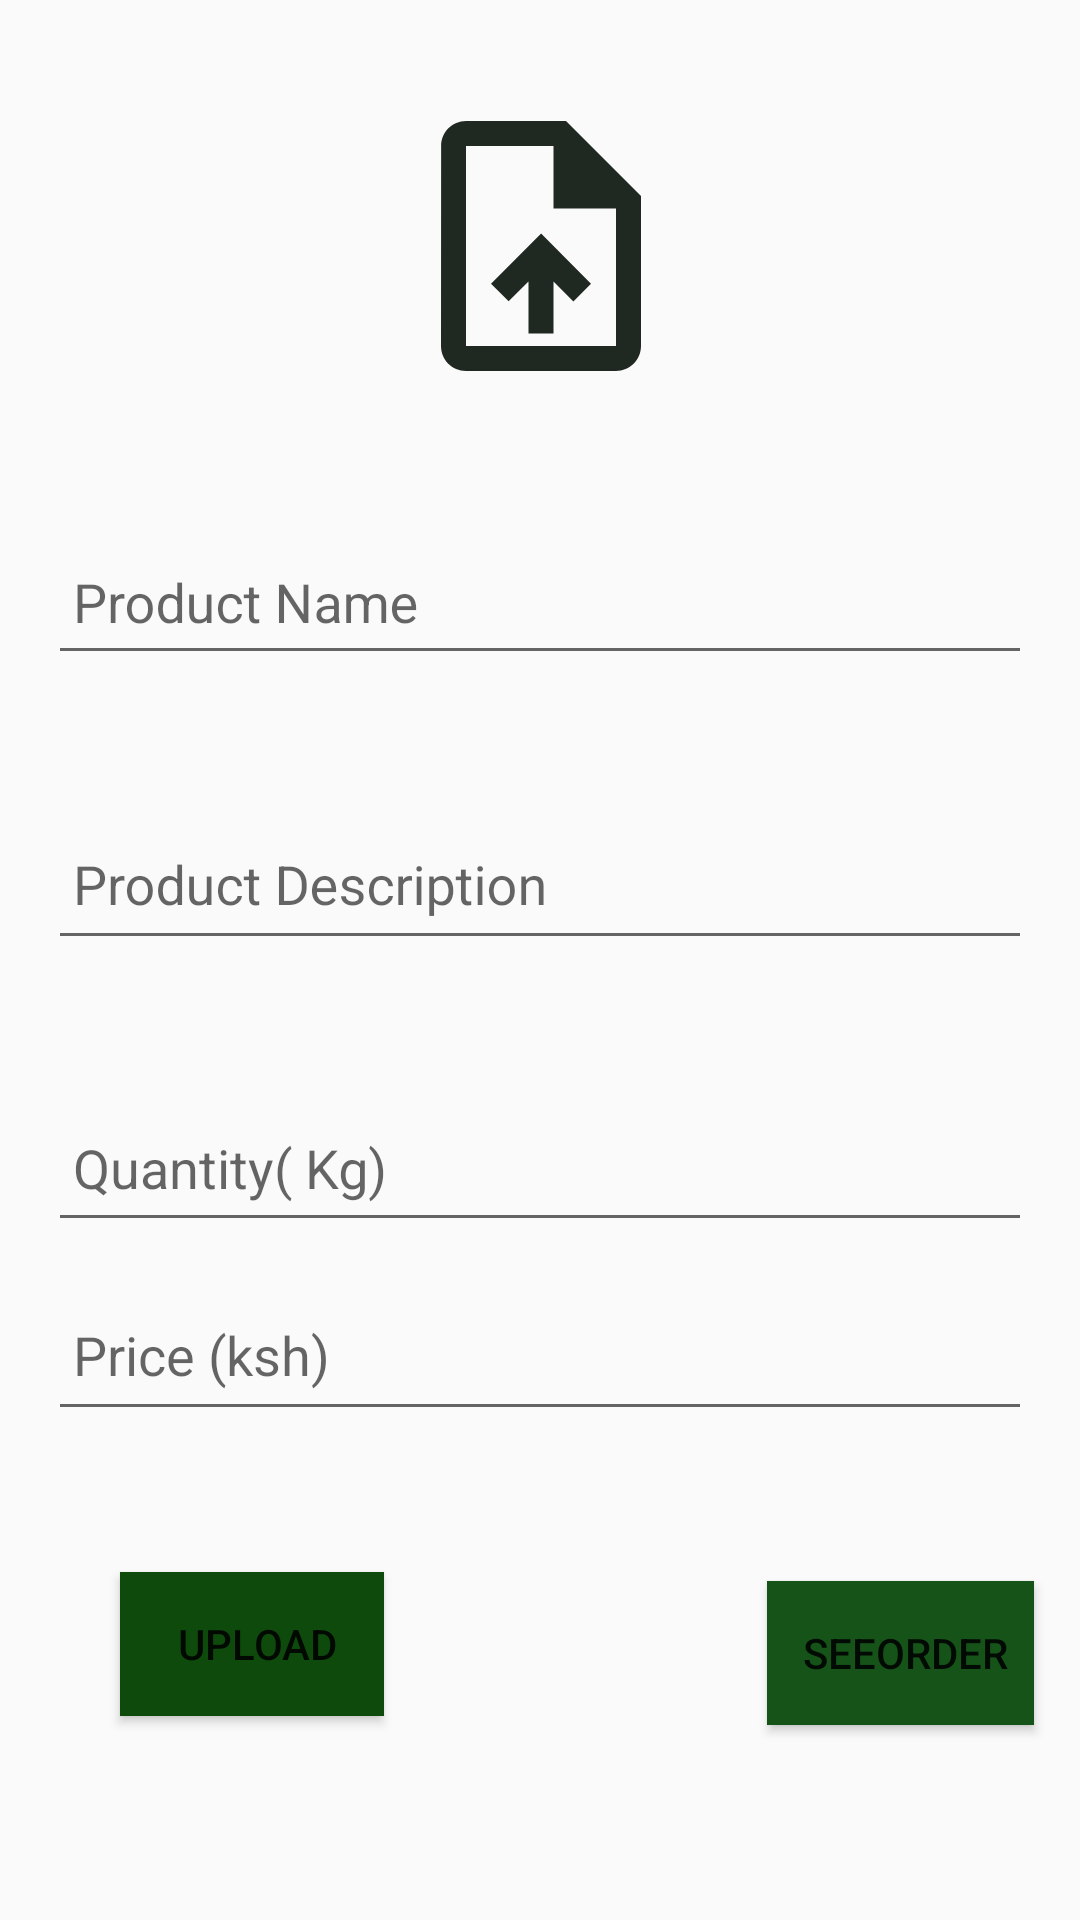

Screen size 1080 x 1920. Icon name, then its center in pixels as [x,y]:
upload file: [541,246]
